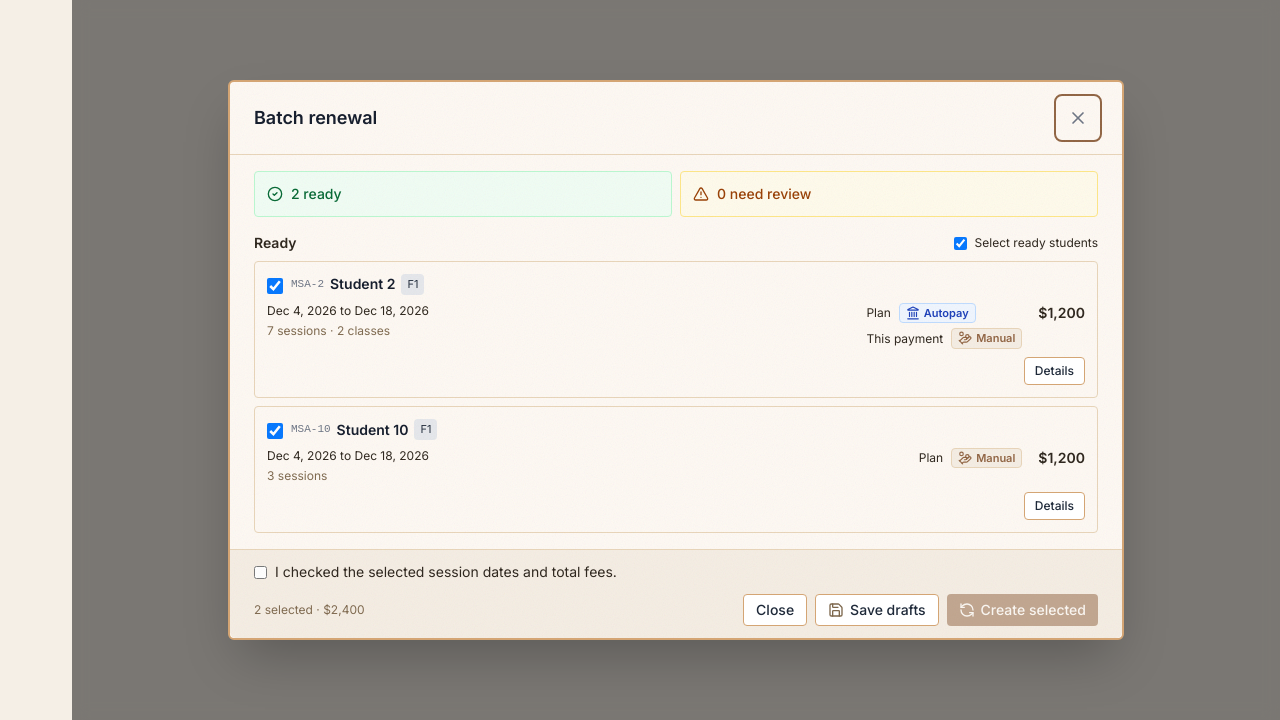
batch renewal comparison › orders students by school ID and keeps twice-weekly lessons in one selected payment
expect the dialog is shown: met, box [228, 80, 1124, 640]
expect the text "7 sessions · 2 classes" is shown: met, box [267, 323, 390, 338]
Step 1. Click the checkbox labelled "I checked the selected session dates and total fees." → (260, 572), box [254, 566, 267, 579]
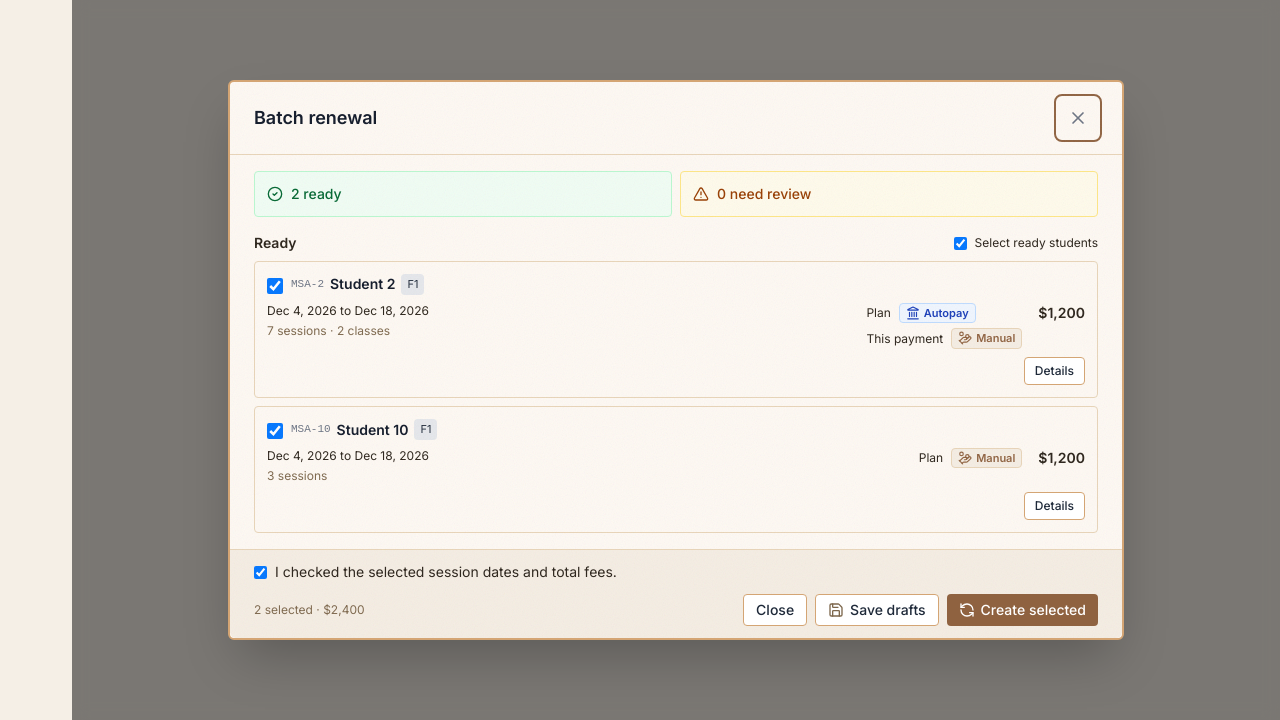
expect the button "Create selected" is enabled: met, box [947, 594, 1098, 626]
Step 2. Click the checkbox named "Select Student 10" → (275, 431), box [267, 423, 283, 439]
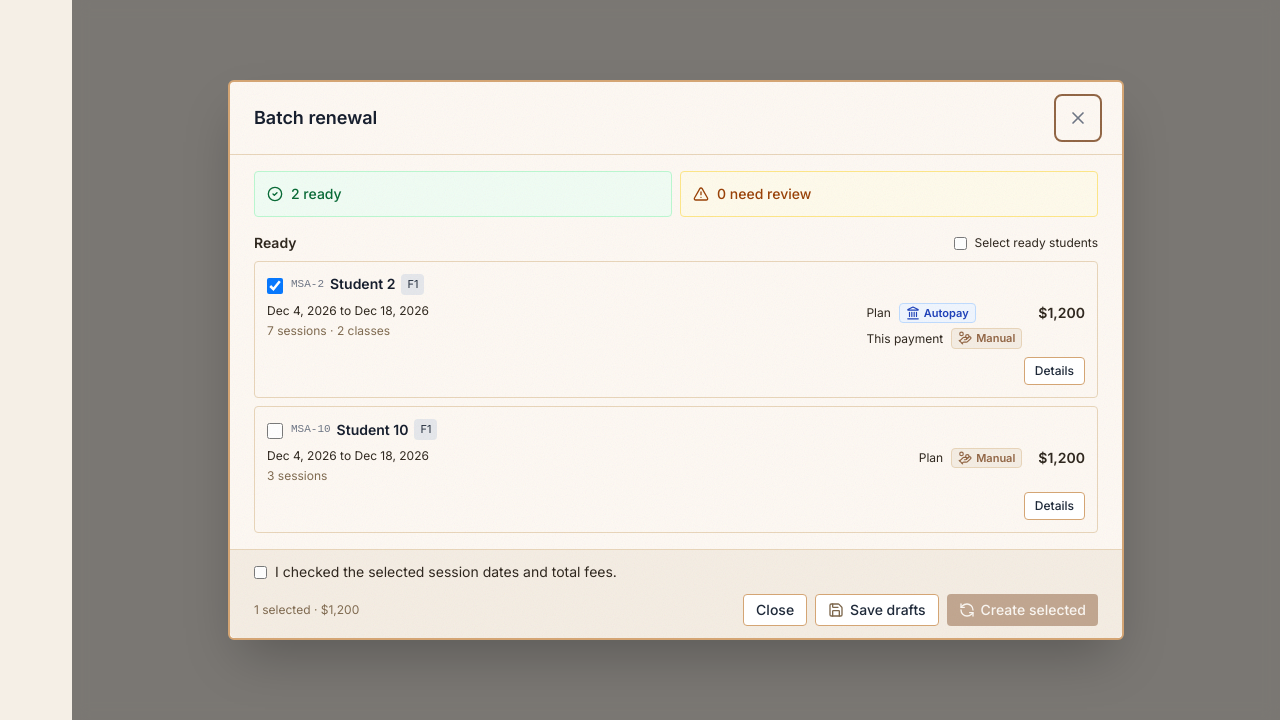
expect the button "Create selected" is disabled: met, box [947, 594, 1098, 626]
